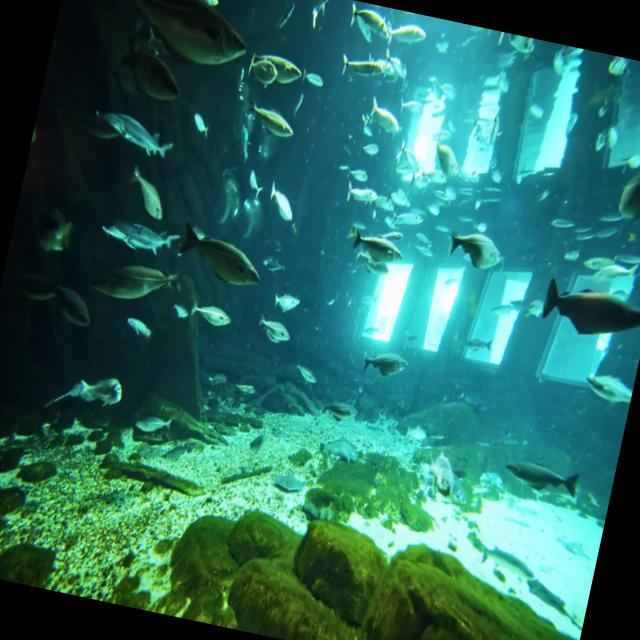fish: (86, 0, 259, 75), (537, 275, 640, 354), (173, 220, 264, 288)
